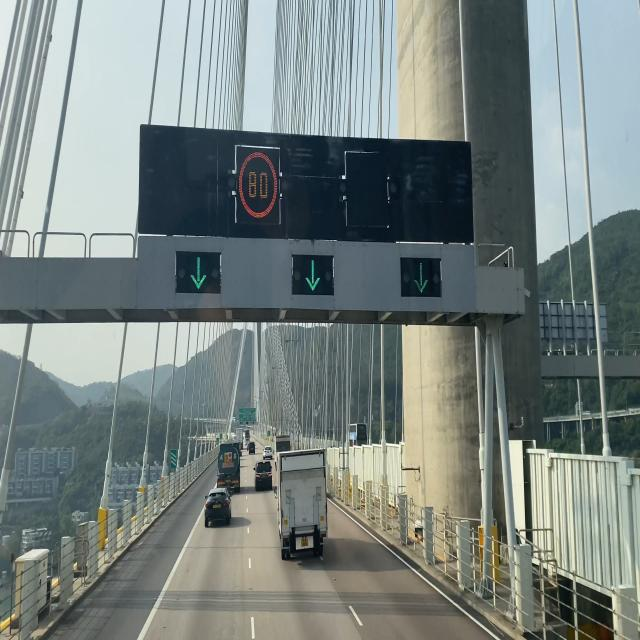Car: (276, 449, 330, 564), (204, 487, 234, 530), (218, 441, 240, 492), (252, 456, 272, 491)
